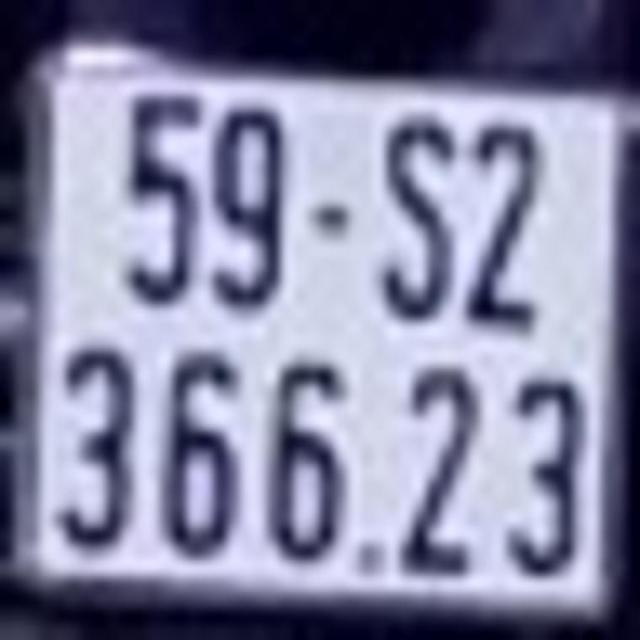2: (401, 358, 478, 572), (467, 123, 544, 324)
3: (55, 342, 140, 560), (502, 369, 588, 584)
5: (123, 90, 200, 305)
6: (161, 352, 247, 559), (266, 346, 344, 568)
9: (204, 100, 278, 308)
S: (378, 119, 457, 324)
